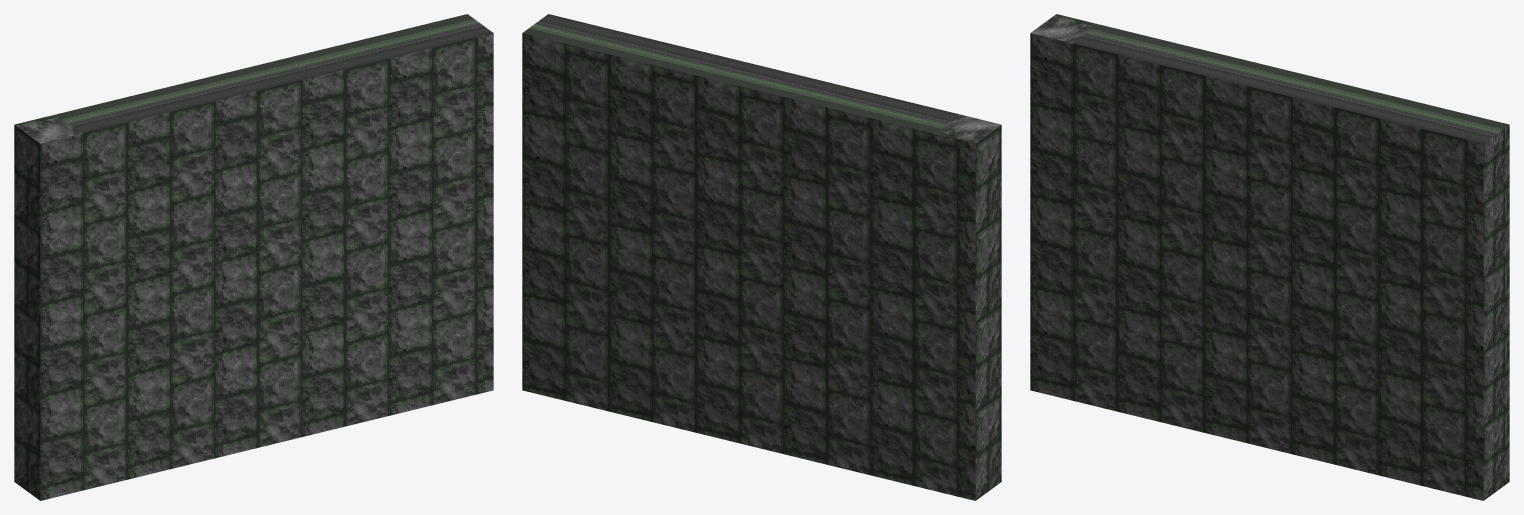
Rendered from Door01.glb.
The picture shows the model from 3 angles, left to right: view 1: azimuth 30°, elevation 25°; view 2: azimuth 150°, elevation 25°; view 3: azimuth 330°, elevation 25°; orthographic projection.
Visible parts, largest first — view 1: Cube; view 2: Cube; view 3: Cube.
Part boxes in pixels (x1=…): Cube: x1=14, y1=14, x2=493, y2=500; Cube: x1=522, y1=14, x2=1001, y2=500; Cube: x1=1030, y1=14, x2=1509, y2=500.
Size of the model in its own units: 20.02 by 15.08 by 2.
1 material, 1 textured.
